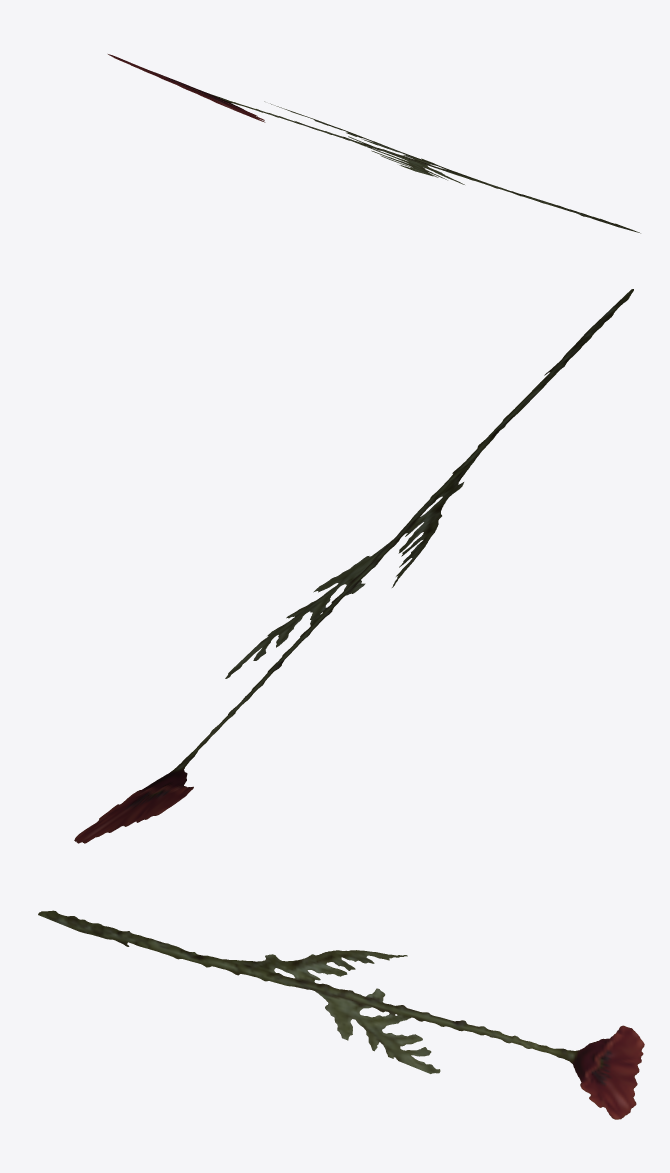
Rendered from MEP_RedFlower_03_LOD_01.fbx.
The picture shows the model from 3 angles, top to bottom: view 1: azimuth 30°, elevation 25°; view 2: azimuth 150°, elevation 25°; view 3: azimuth 270°, elevation 25°; orthographic projection. The views are drawn at different scales.
Parts seen in each view (by area): view 1: MEP_RedFlower_03_LOD_01; view 2: MEP_RedFlower_03_LOD_01; view 3: MEP_RedFlower_03_LOD_01.
Boxes of the visible parts, box(x1,y1,x2,y2) form: MEP_RedFlower_03_LOD_01: box(108, 54, 640, 233); MEP_RedFlower_03_LOD_01: box(74, 289, 633, 843); MEP_RedFlower_03_LOD_01: box(38, 910, 644, 1119).
Bounding box in the file's own units: 0.196 × 0.2505 × 0.7291.
